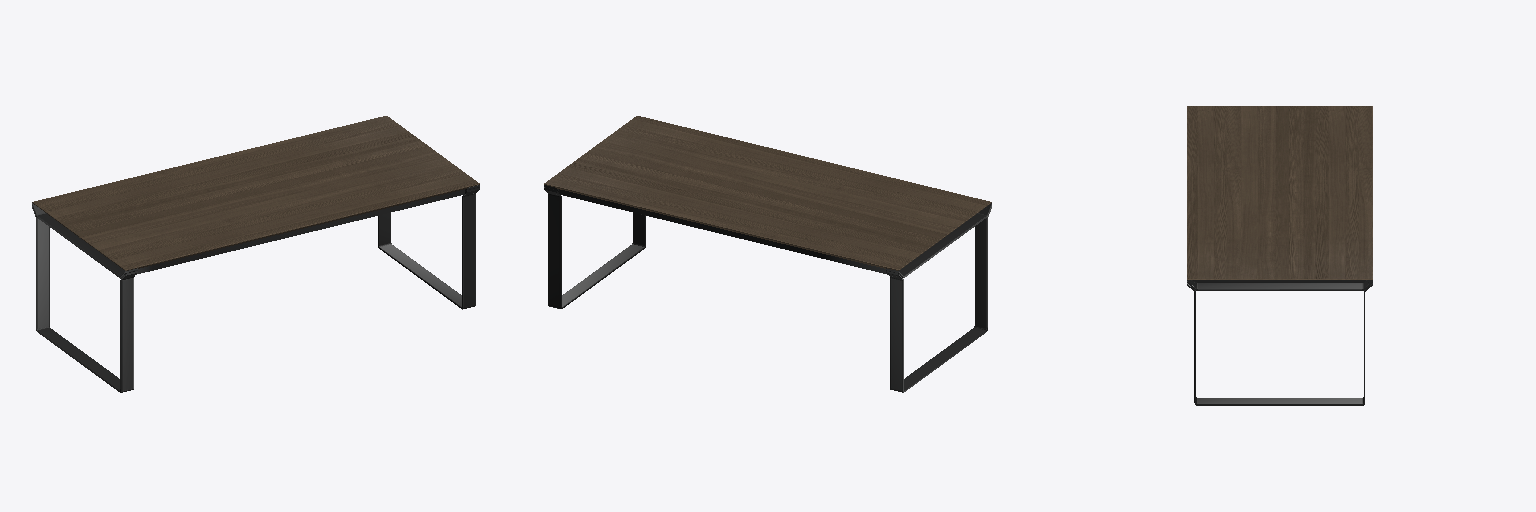
3 views of the same model, side by side, from view 1: azimuth 30°, elevation 25°; view 2: azimuth 150°, elevation 25°; view 3: azimuth 270°, elevation 25° (orthographic).
Parts seen in each view (by area): view 1: solid_001, solid_002; view 2: solid_001, solid_002; view 3: solid_001, solid_002.
Part boxes in pixels (bbox=[...]): solid_001: bbox=[32, 116, 479, 270]; solid_002: bbox=[32, 185, 479, 392]; solid_001: bbox=[544, 116, 991, 270]; solid_002: bbox=[544, 185, 991, 392]; solid_001: bbox=[1187, 106, 1372, 279]; solid_002: bbox=[1187, 280, 1372, 405].
Bounding box in the file's own units: 2 × 0.6817 × 0.9089.
1 materials, 1 textured.